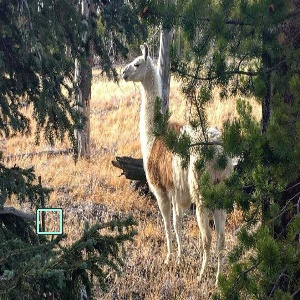square: (36, 208, 63, 234)
